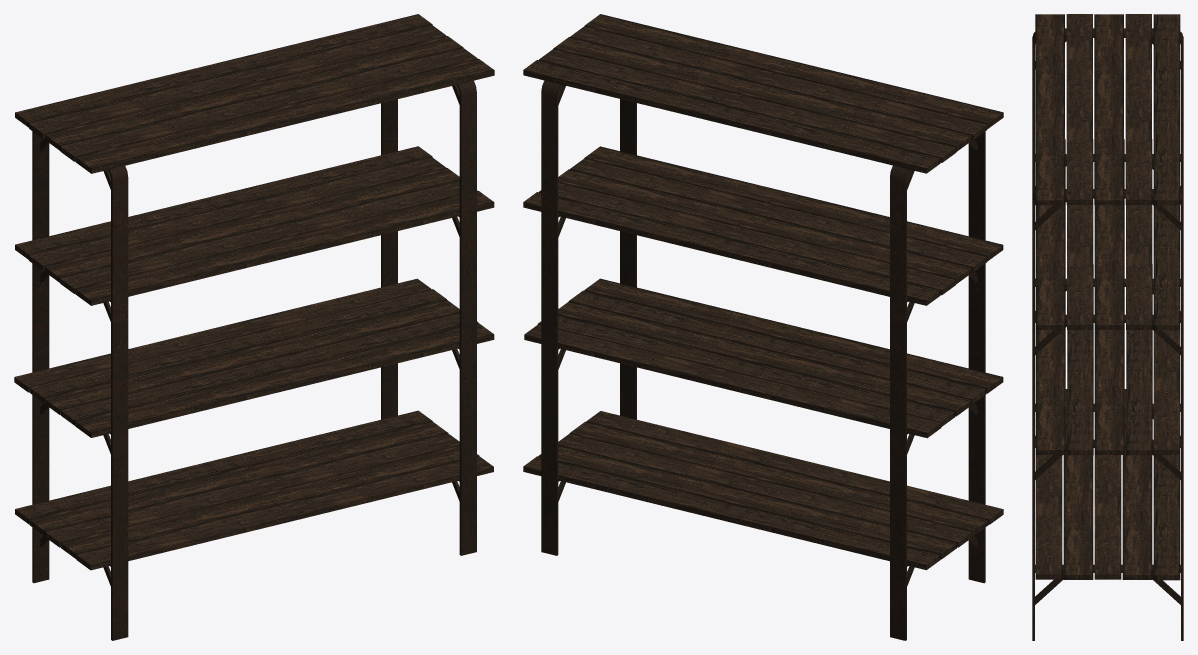
Rendered from shelf_mx_1.dae.
The picture shows the model from 3 angles, left to right: view 1: azimuth 30°, elevation 25°; view 2: azimuth 150°, elevation 25°; view 3: azimuth 270°, elevation 25°; orthographic projection. The views are drawn at different scales.
Visible parts, largest first — view 1: shelf_mx_1; view 2: shelf_mx_1; view 3: shelf_mx_1.
Part boxes in pixels (bbox=[...]): shelf_mx_1: bbox=[14, 14, 494, 640]; shelf_mx_1: bbox=[523, 14, 1003, 640]; shelf_mx_1: bbox=[1032, 14, 1183, 640].
Bounding box in the file's own units: 1.6 × 0.55 × 1.8.
2 materials, 2 textured.
